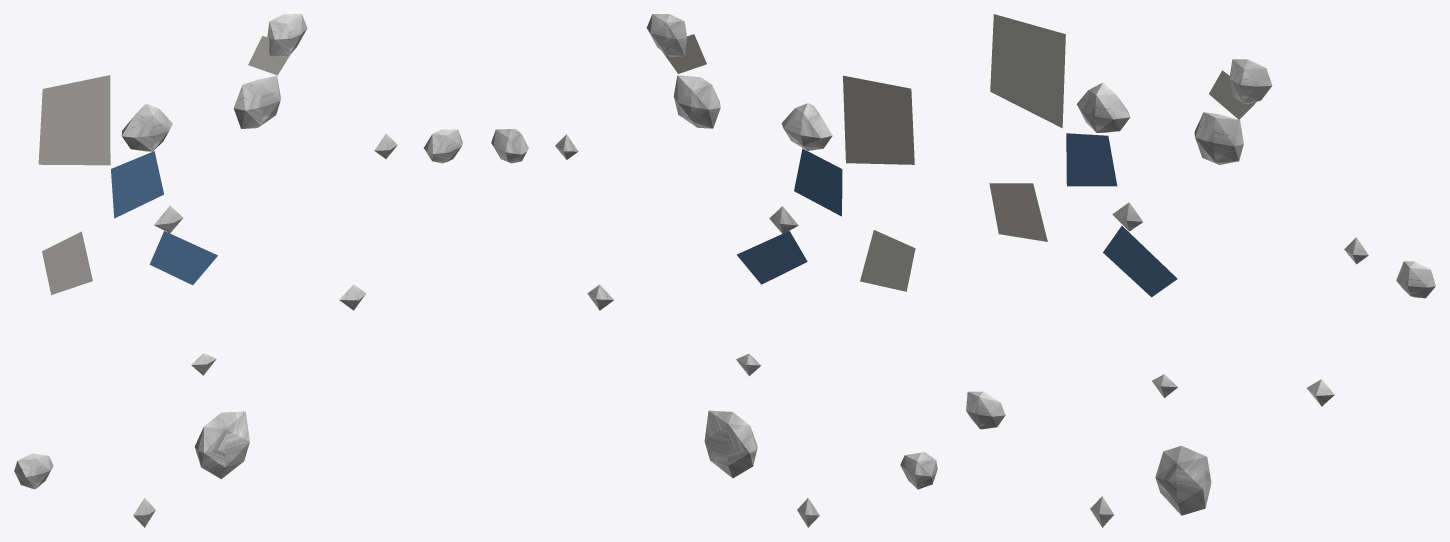
Rendered from SM_Rocks_Litter.obj.
The picture shows the model from 3 angles, left to right: view 1: azimuth 30°, elevation 25°; view 2: azimuth 150°, elevation 25°; view 3: azimuth 330°, elevation 25°; orthographic projection. The views are drawn at different scales.
Visible parts, largest first — view 1: SM_Rocks_Litter; view 2: SM_Rocks_Litter; view 3: SM_Rocks_Litter.
Boxes of the visible parts, box(x1,y1,x2,y2) form: SM_Rocks_Litter: box(14, 14, 462, 527); SM_Rocks_Litter: box(491, 14, 937, 527); SM_Rocks_Litter: box(966, 14, 1435, 527).
Bounding box in the file's own units: 146 × 151 × 8.64.
5 materials, 3 textured.
